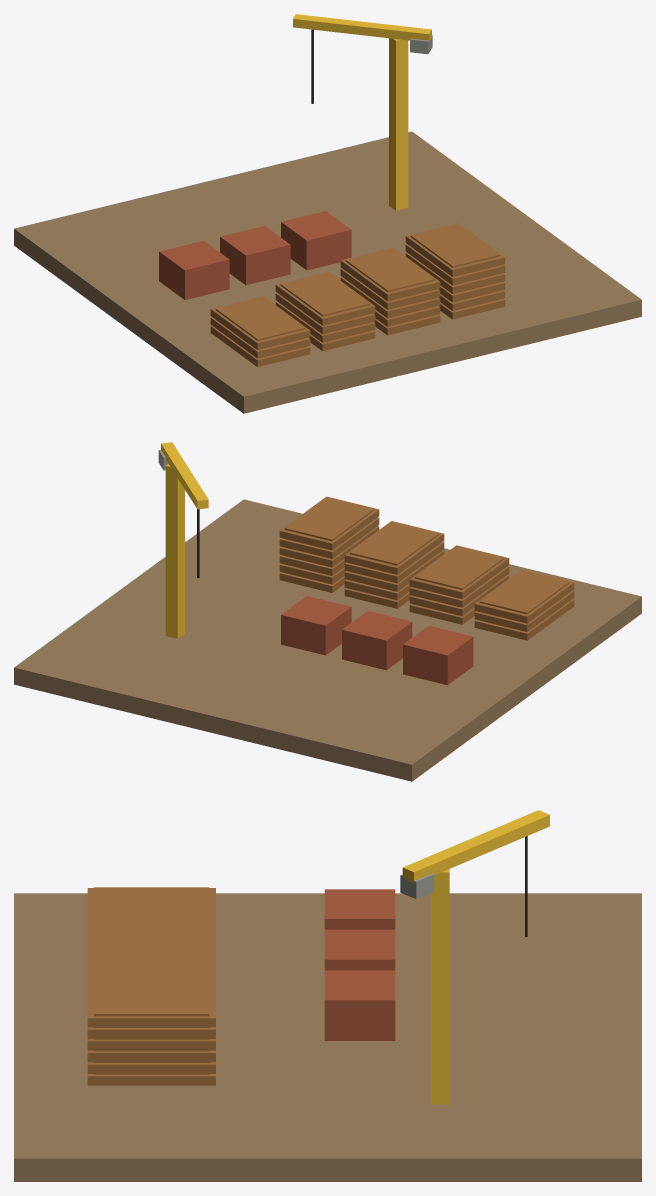
File: forest_special_2.glb
3 renders of one model, top to bottom at view 1: azimuth 30°, elevation 25°; view 2: azimuth 150°, elevation 25°; view 3: azimuth 270°, elevation 25°, orthographic. The views are drawn at different scales.
Parts seen in each view (by area): view 1: forest_special_2; view 2: forest_special_2; view 3: forest_special_2.
Boxes of the visible parts, left/top/right/bottom form: forest_special_2: left=14, top=14, right=641, bottom=413; forest_special_2: left=14, top=442, right=641, bottom=781; forest_special_2: left=14, top=810, right=641, bottom=1181.
Bounding box in the file's own units: 1.96 × 0.92 × 1.96.
